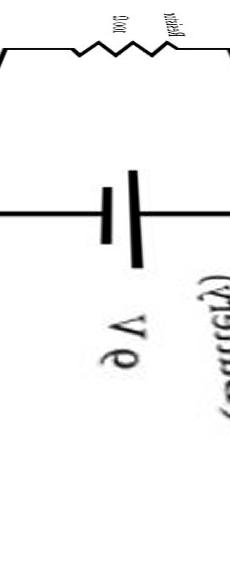resistor: (65, 38, 198, 76)
